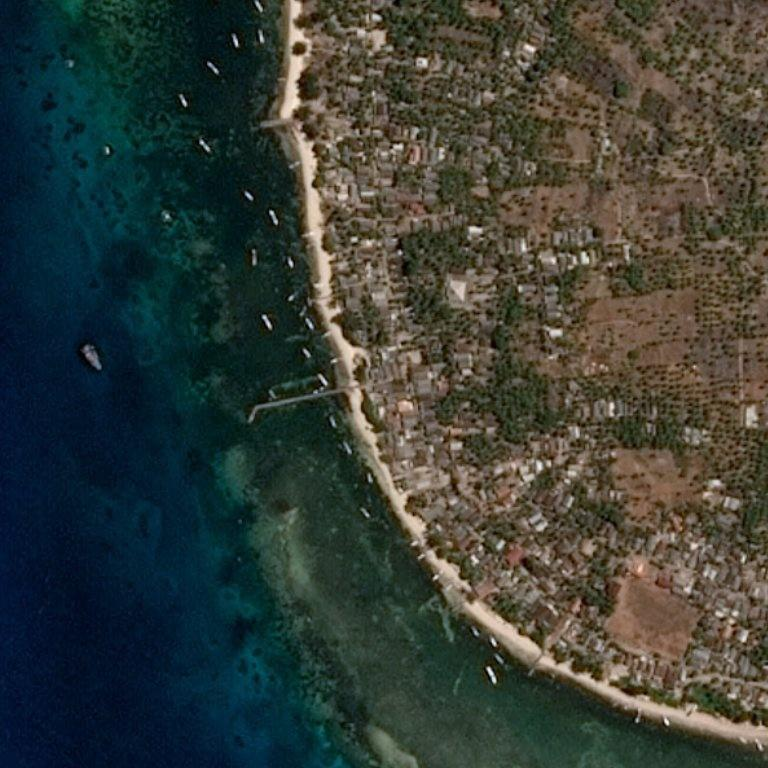ship: (79, 344, 107, 375)
